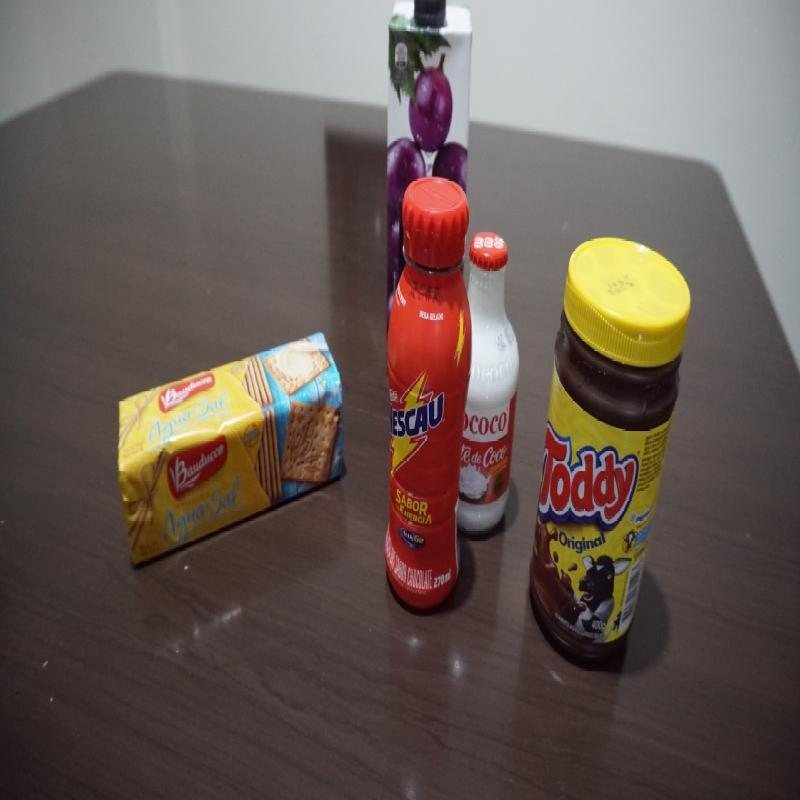Chocolate Milk: (382, 172, 474, 620)
Chocolate Powder: (527, 233, 692, 668)
Coconut Milk: (454, 230, 519, 538)
Cracker: (112, 332, 348, 578)
